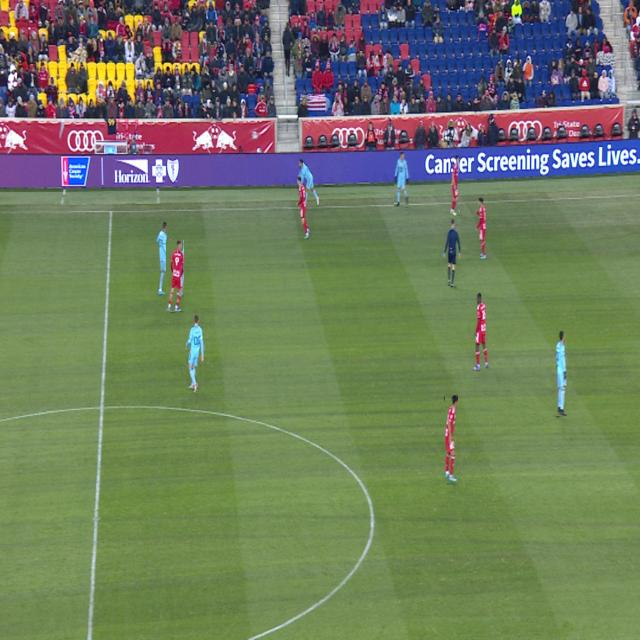football: (252, 130, 259, 140)
player: (186, 316, 204, 391), (166, 241, 184, 311), (473, 293, 489, 370), (157, 223, 173, 295), (445, 396, 458, 482), (556, 332, 567, 416), (297, 177, 310, 238), (395, 153, 409, 207), (475, 199, 486, 259), (451, 155, 459, 215)
referee: (443, 219, 461, 286)
